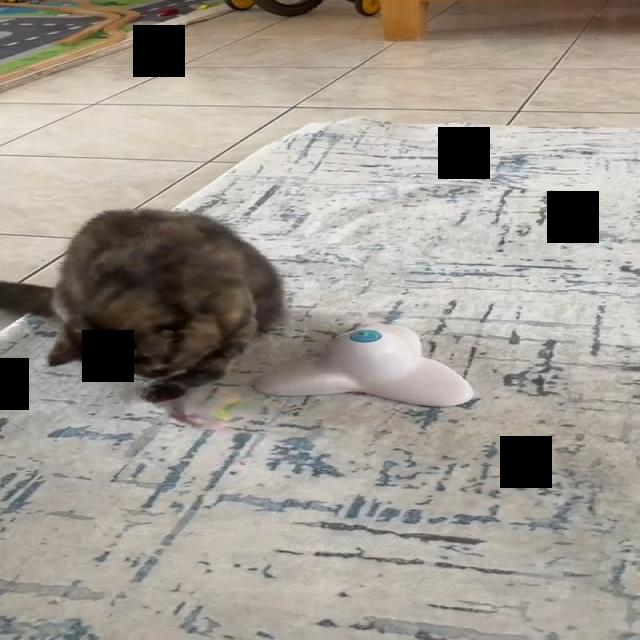authorized: (0, 207, 288, 403)
